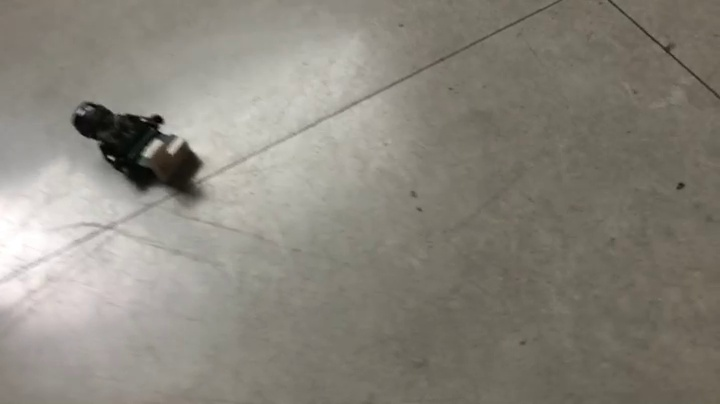people: (70, 100, 205, 191)
